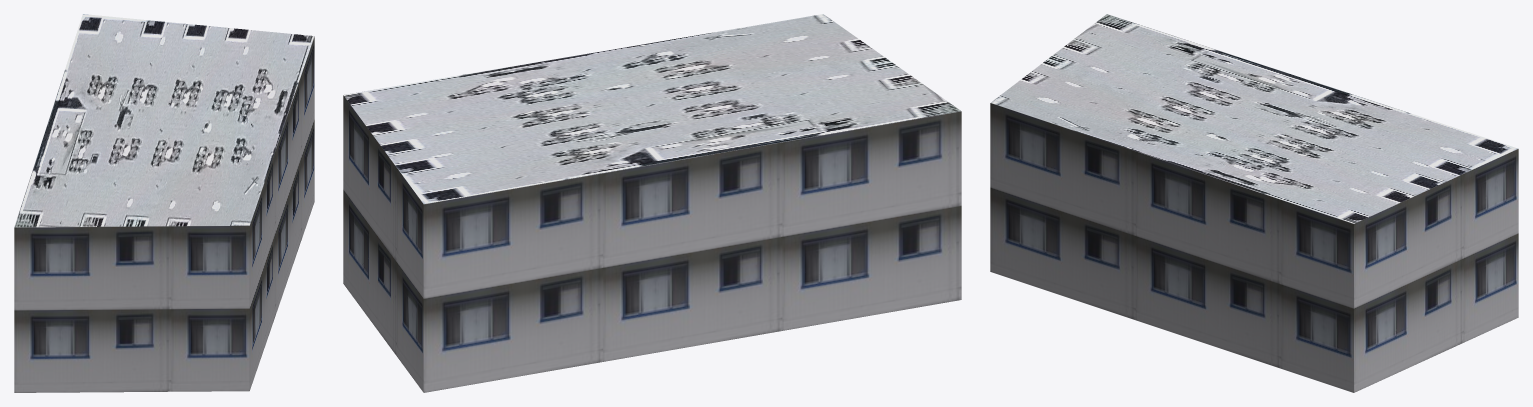
File: ResTex__5272.fbx
3 views of the same model, side by side, from view 1: azimuth 30°, elevation 25°; view 2: azimuth 150°, elevation 25°; view 3: azimuth 270°, elevation 25° (orthographic). The views are drawn at different scales.
Parts seen in each view (by area): view 1: CityEngineMaterial_9_m, CityEngineMaterial_8_m; view 2: CityEngineMaterial_9_m, CityEngineMaterial_8_m; view 3: CityEngineMaterial_9_m, CityEngineMaterial_8_m.
Boxes of the visible parts, bbox=[...] form: CityEngineMaterial_9_m: bbox=[14, 37, 314, 392]; CityEngineMaterial_8_m: bbox=[14, 14, 314, 227]; CityEngineMaterial_9_m: bbox=[343, 95, 961, 392]; CityEngineMaterial_8_m: bbox=[343, 14, 961, 203]; CityEngineMaterial_9_m: bbox=[990, 103, 1518, 392]; CityEngineMaterial_8_m: bbox=[991, 14, 1517, 223].
Size of the model in its own units: 15.99 by 6 by 16.99.
Materials: 2 (2 with a texture image).
